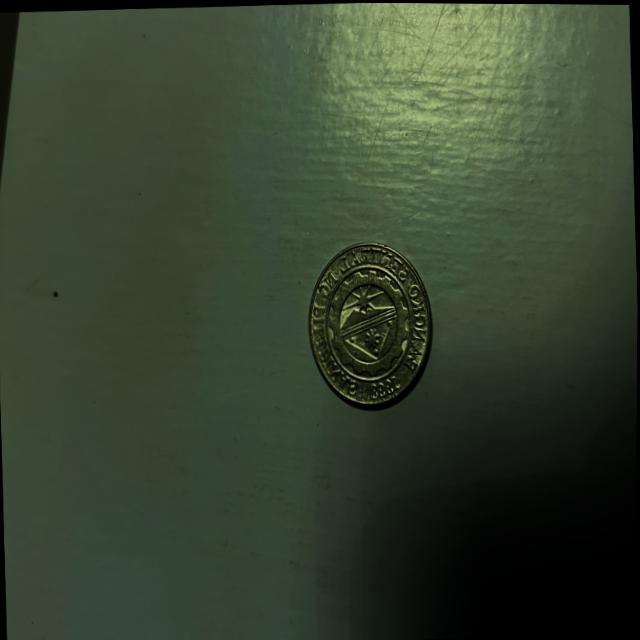1_Old_Back: (320, 250, 421, 398)
